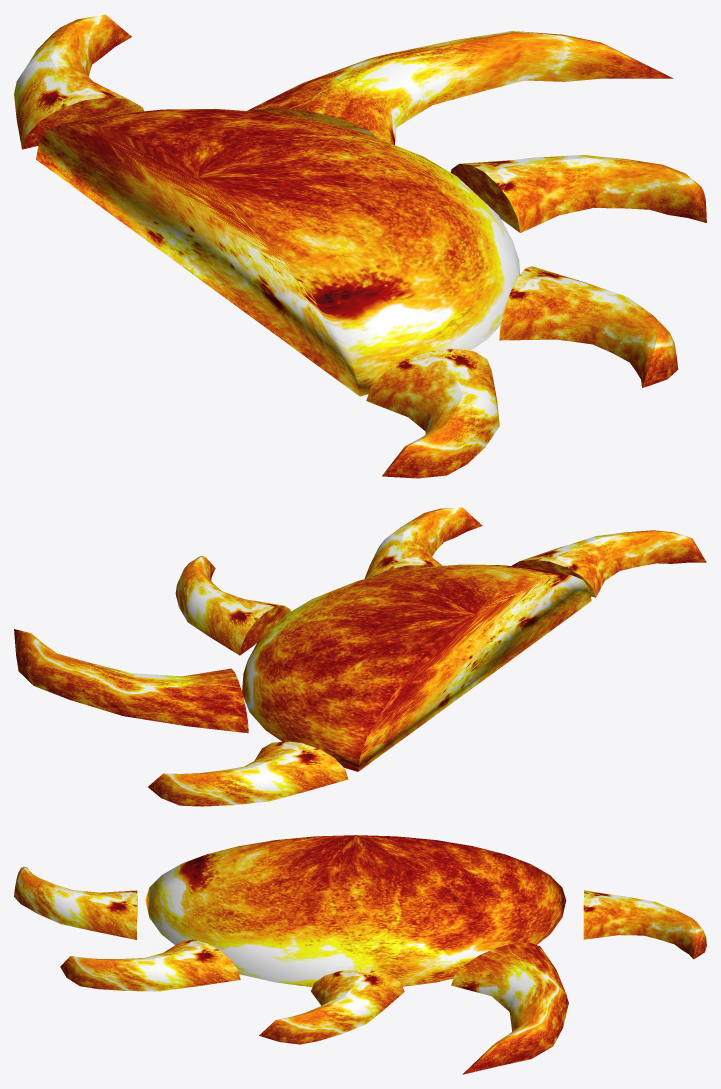
File: sun4.FBX
3 views of the same model, one above another, from view 1: azimuth 30°, elevation 25°; view 2: azimuth 150°, elevation 25°; view 3: azimuth 270°, elevation 25° (orthographic). The views are drawn at different scales.
Parts seen in each view (by area): view 1: Sun_2; view 2: Sun_2; view 3: Sun_2.
Boxes of the visible parts, bbox=[...] form: Sun_2: bbox=[14, 14, 706, 478]; Sun_2: bbox=[14, 507, 706, 806]; Sun_2: bbox=[14, 835, 706, 1074].
Size of the model in its own units: 186 by 28.82 by 274.
Materials: 1 (1 with a texture image).
